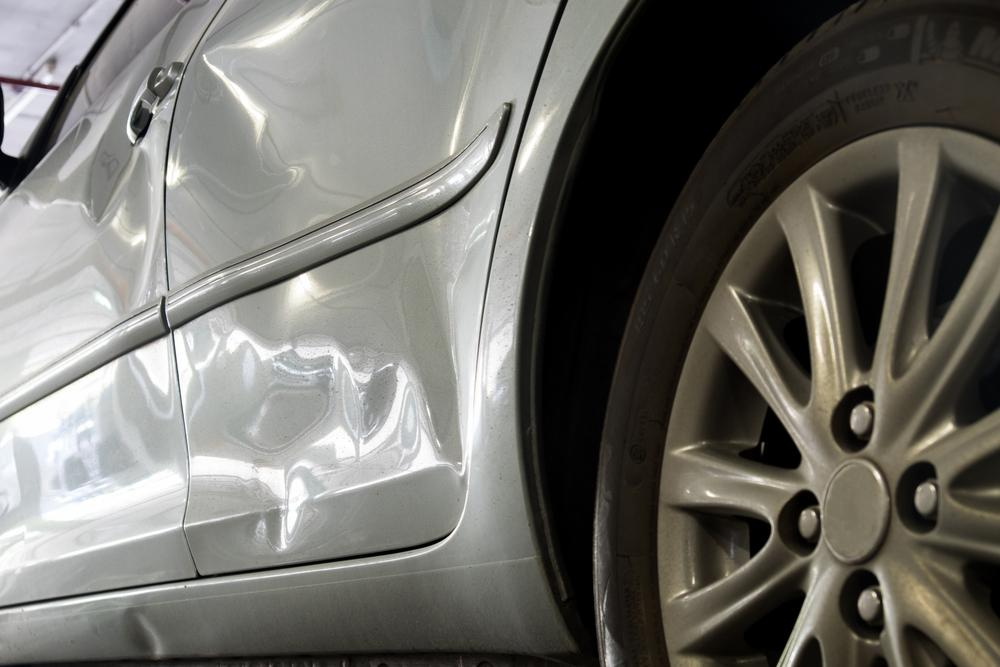dent: (175, 0, 507, 551), (86, 77, 166, 320)
